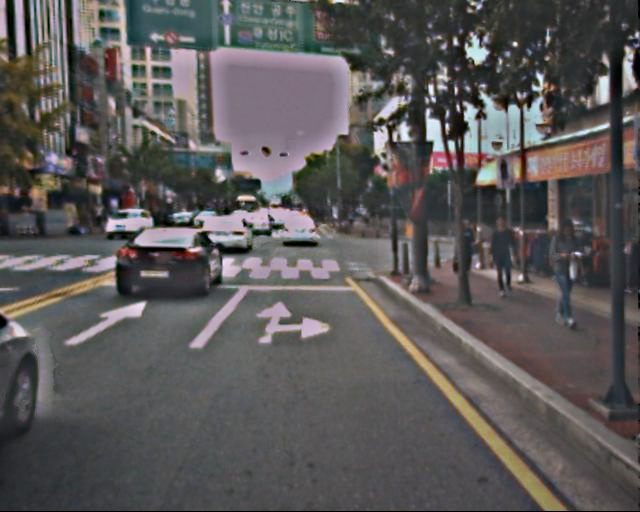person: (539, 219, 588, 329), (485, 214, 521, 298), (454, 219, 479, 282)
